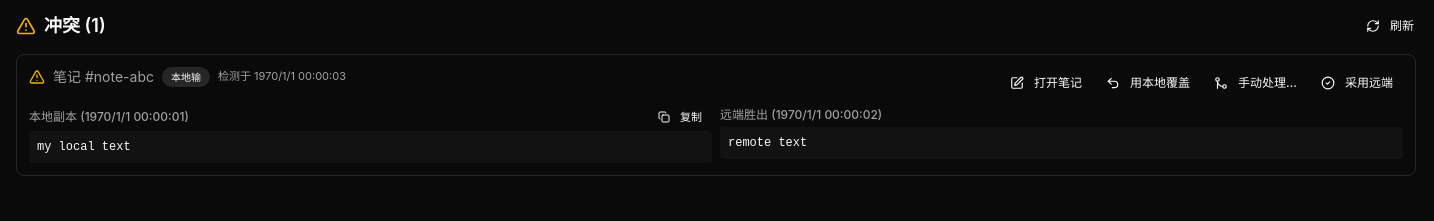
Test: ConflictsPage resolve flow (W7) › surfaces a friendly message on VERSION_MISMATCH (AC3)
What coordinates should you click on to do the following:
click the button "用本地覆盖"
I would click on:
 (1148, 83)
Its box is x1=1096 y1=67 x2=1200 y2=99.
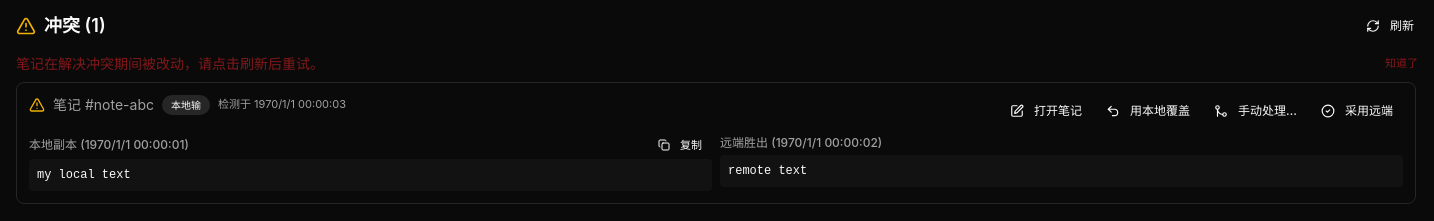
Expected: the text "笔记在解决冲突期间被改动，请点击刷新后重试。" is shown, x1=16 y1=54 x2=324 y2=74
